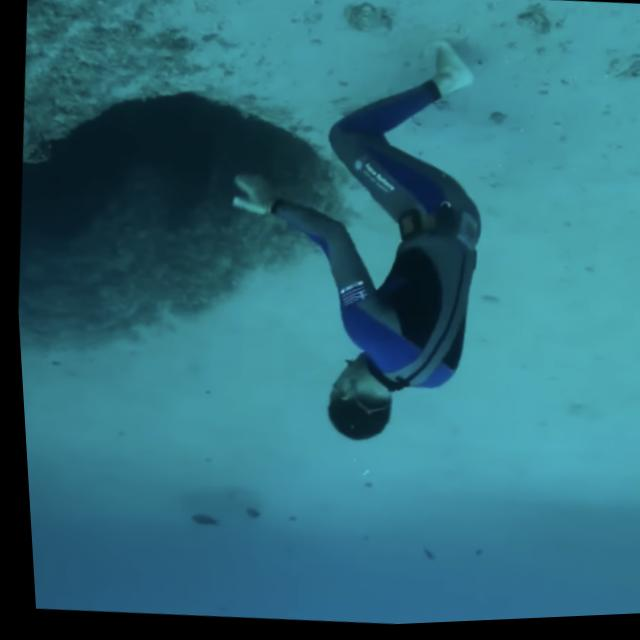human: (197, 21, 508, 463)
